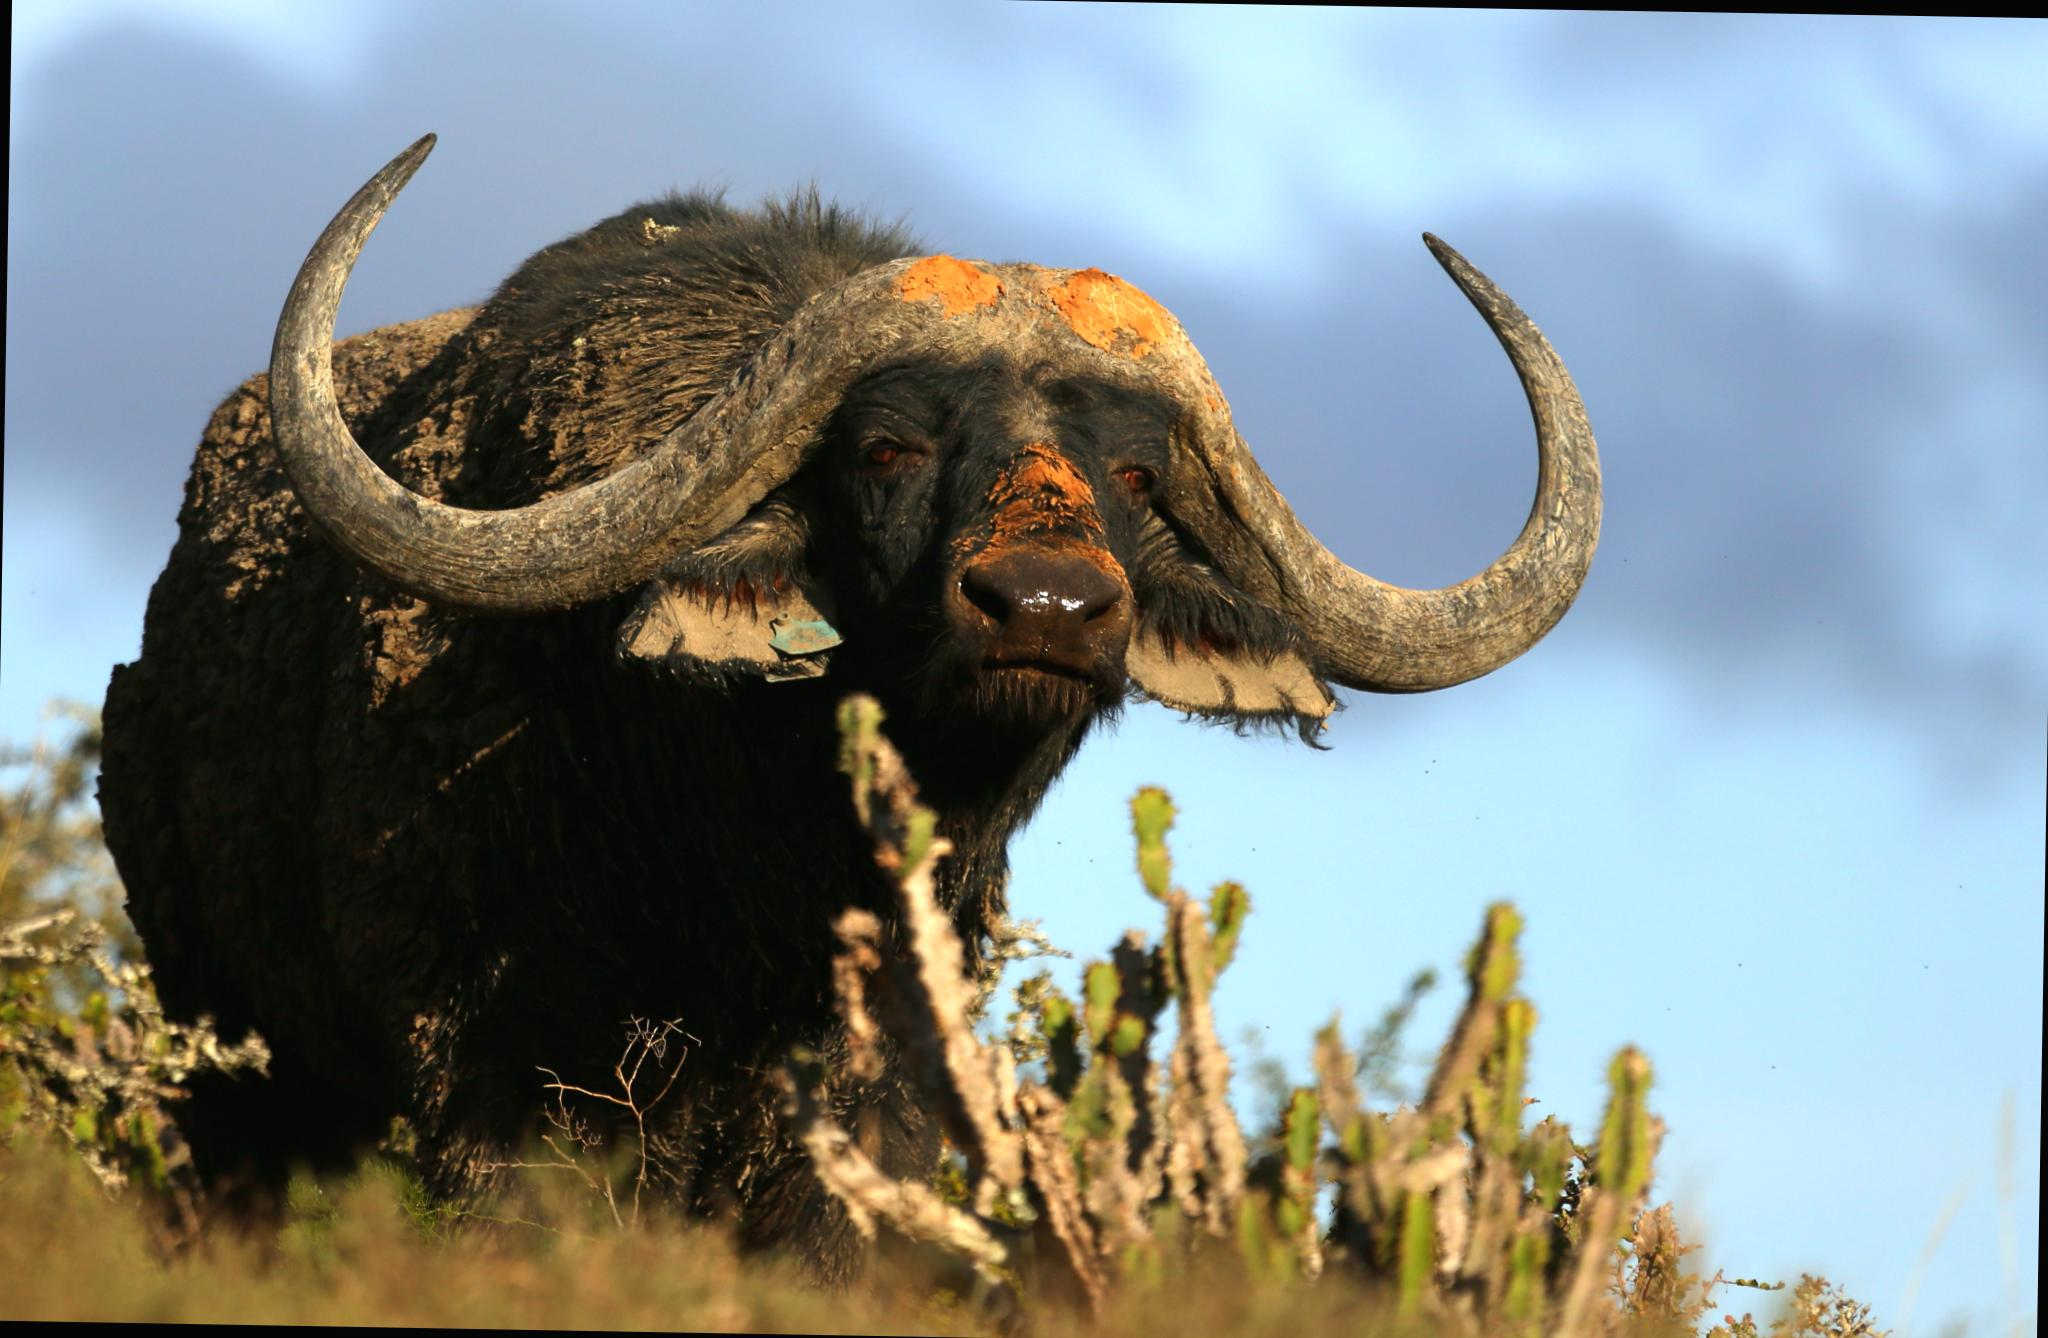Buffalo: (0, 63, 1872, 1305)
